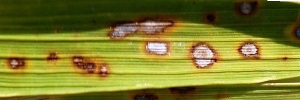RiceBrownSpot: (105, 13, 265, 70), (2, 50, 115, 80)
